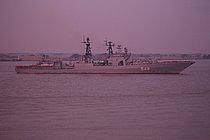MIL_Ship: (13, 29, 196, 75)
